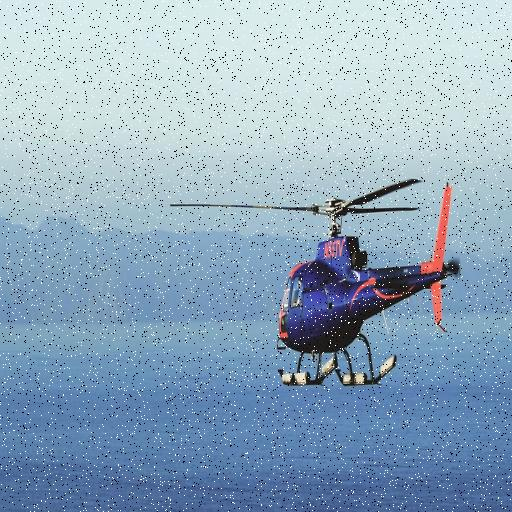helicopter: (164, 178, 465, 383)
